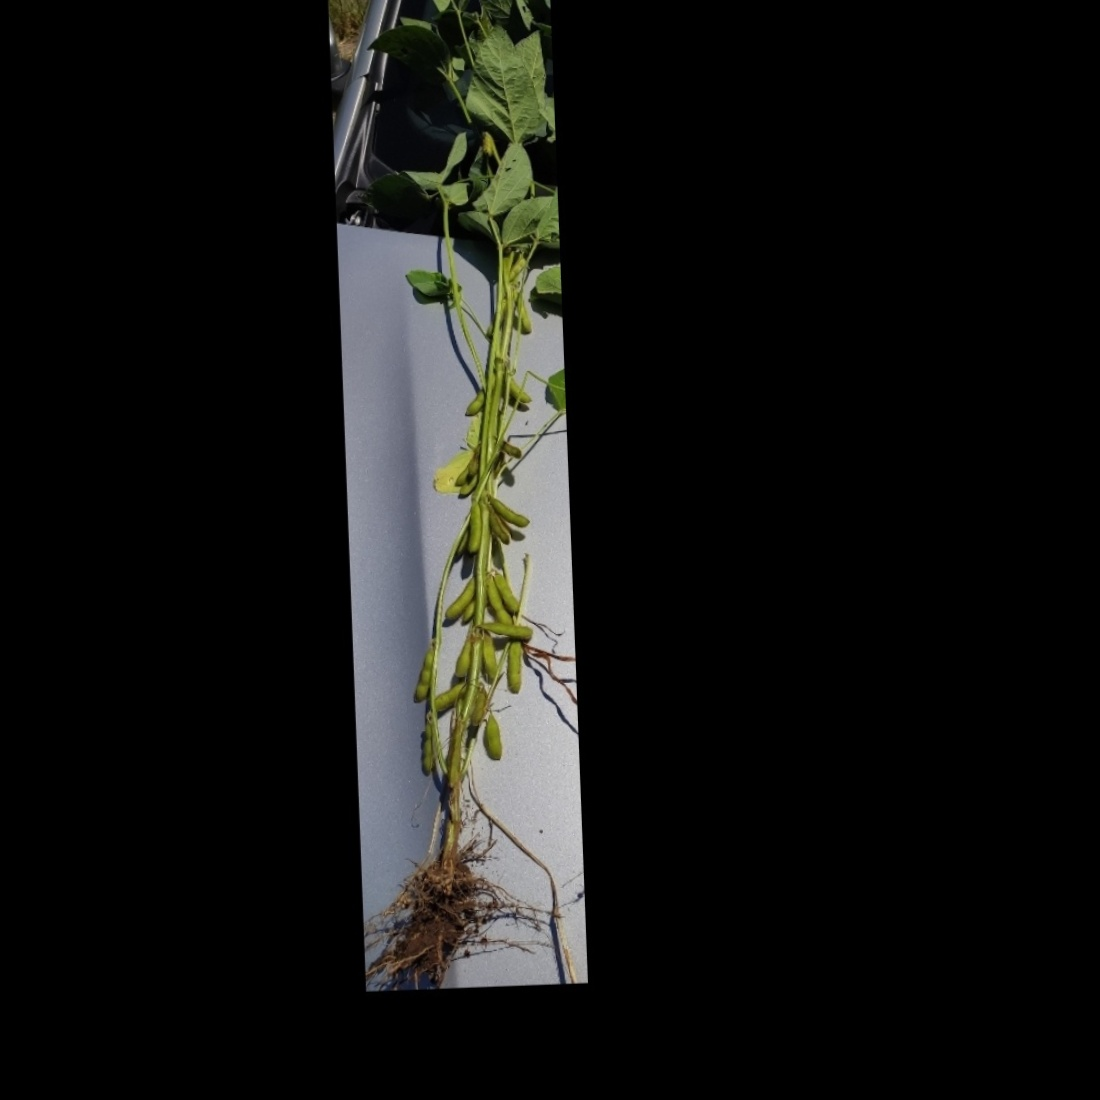pod: (441, 572, 478, 627), (486, 564, 520, 615), (411, 640, 435, 710), (502, 633, 525, 699), (491, 496, 532, 528), (473, 621, 541, 640), (483, 707, 504, 766), (449, 631, 473, 680), (463, 494, 482, 559), (419, 716, 436, 782)
soy: (329, 0, 587, 994)
